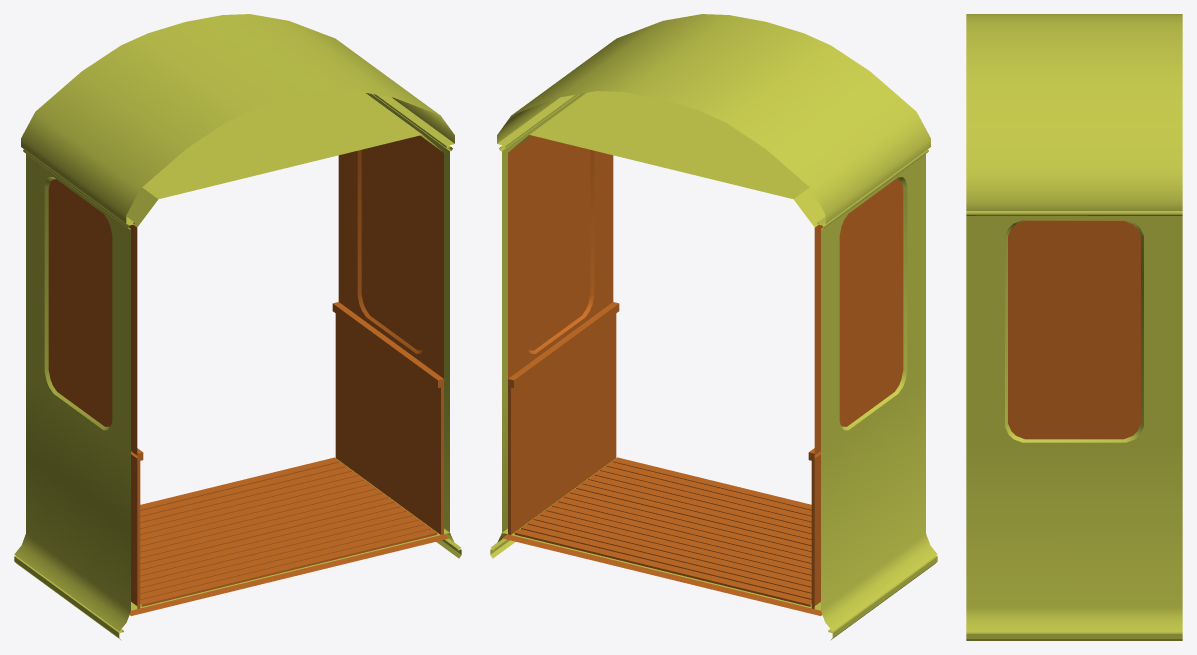
The model's file is vagon tile lod0.FBX.
3 views of the same model, side by side, from view 1: azimuth 30°, elevation 25°; view 2: azimuth 150°, elevation 25°; view 3: azimuth 270°, elevation 25° (orthographic). The views are drawn at different scales.
Parts seen in each view (by area): view 1: Object862; view 2: Object862; view 3: Object862.
Part boxes in pixels (x1,y1,x2,y2): Object862: (14,14,461,640); Object862: (490,14,937,640); Object862: (966,14,1182,640).
Bounding box in the file's own units: 2.25 × 3.15 × 1.2.
